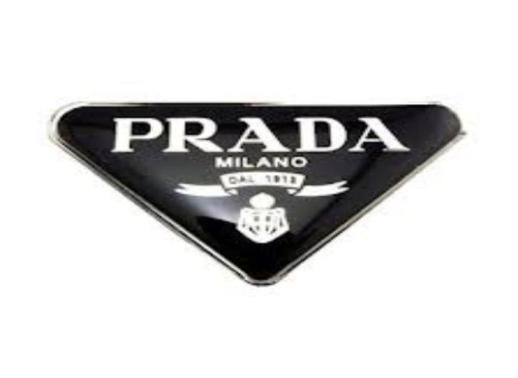PRADA: (101, 99, 419, 158)
